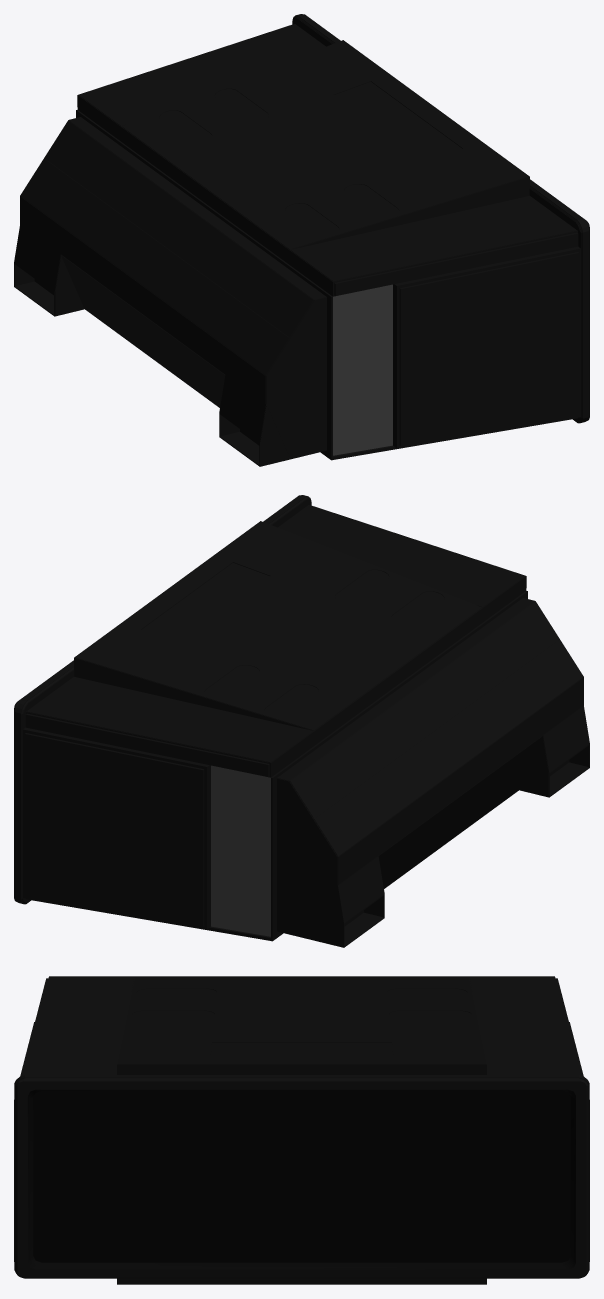
File: radio model.obj
3 renders of one model, top to bottom at view 1: azimuth 30°, elevation 25°; view 2: azimuth 150°, elevation 25°; view 3: azimuth 270°, elevation 25°, orthographic.
Visible parts, largest first — view 1: speaker_speaker.001_Cube.008, plates_plates.001_Cube.002; view 2: speaker_speaker.001_Cube.008, plates_plates.001_Cube.002; view 3: foam_foam.001_Cube.001, speaker_speaker.001_Cube.008, ring_ring.001_Cube.003.
Part boxes in pixels (x1,y1,x2,y2): speaker_speaker.001_Cube.008: [14, 14, 589, 466]; plates_plates.001_Cube.002: [333, 284, 392, 455]; speaker_speaker.001_Cube.008: [14, 495, 589, 947]; plates_plates.001_Cube.002: [211, 765, 270, 936]; foam_foam.001_Cube.001: [33, 1091, 570, 1262]; speaker_speaker.001_Cube.008: [14, 976, 589, 1284]; ring_ring.001_Cube.003: [28, 1089, 575, 1269].
Size of the model in its own units: 0.5993 by 0.4116 by 0.9751.
